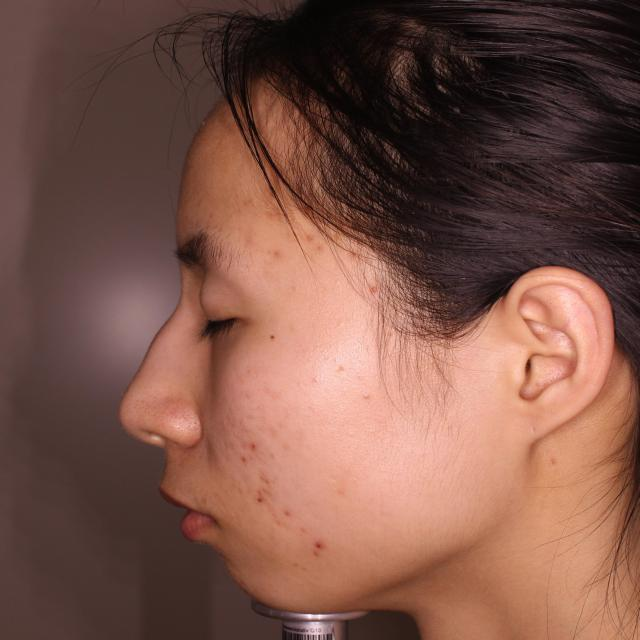acne: (238, 438, 267, 461), (274, 502, 300, 525), (306, 537, 333, 559), (268, 246, 286, 268), (254, 483, 272, 502), (251, 471, 273, 484)
